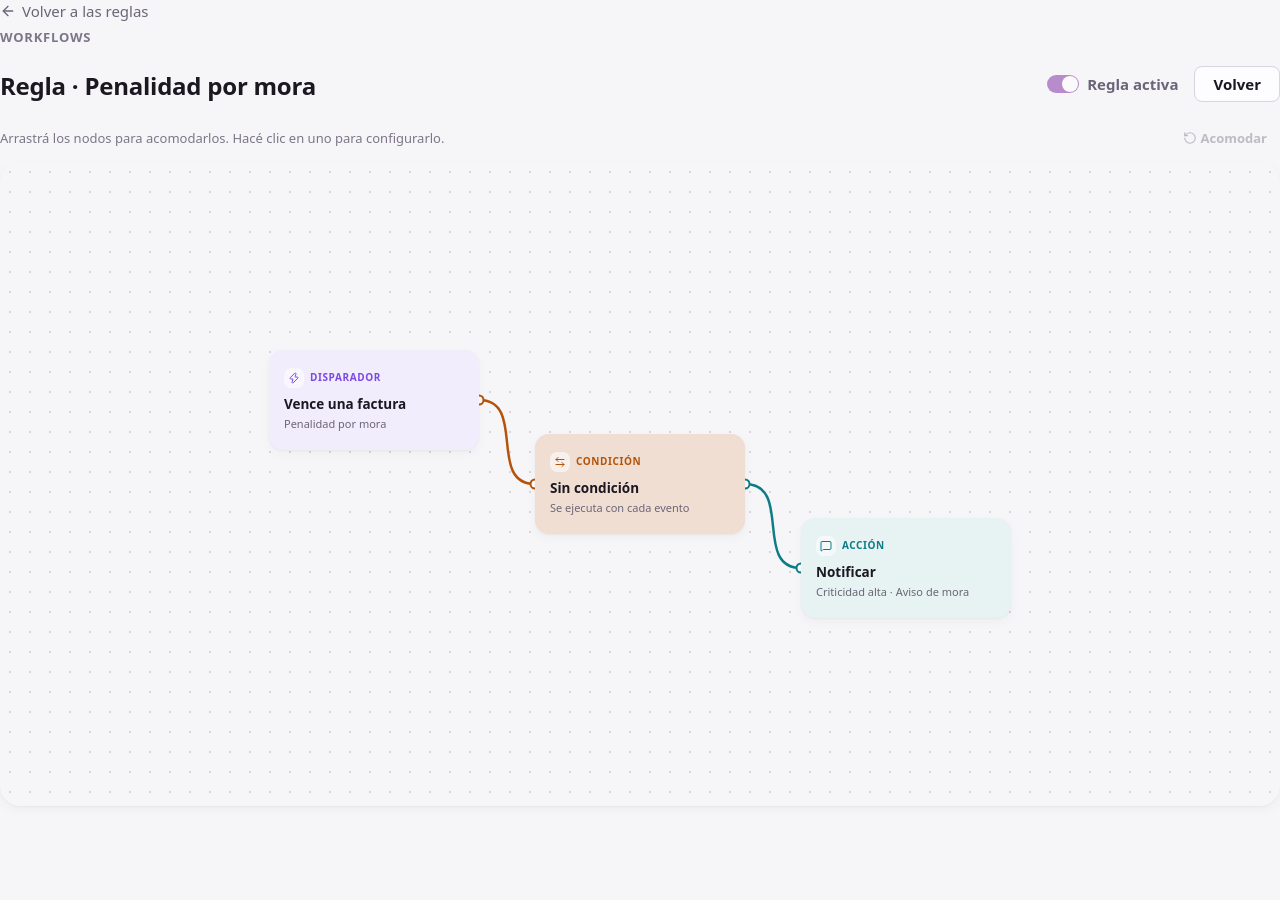
Test: ReglaWorkflowEditorPage › plantilla y destinatarios › deshabilita los destinatarios sin workflows.actualizar
Click the button "Acción Notificar Criticidad alta · Aviso de mora": [906, 568] box [801,518,1011,618]
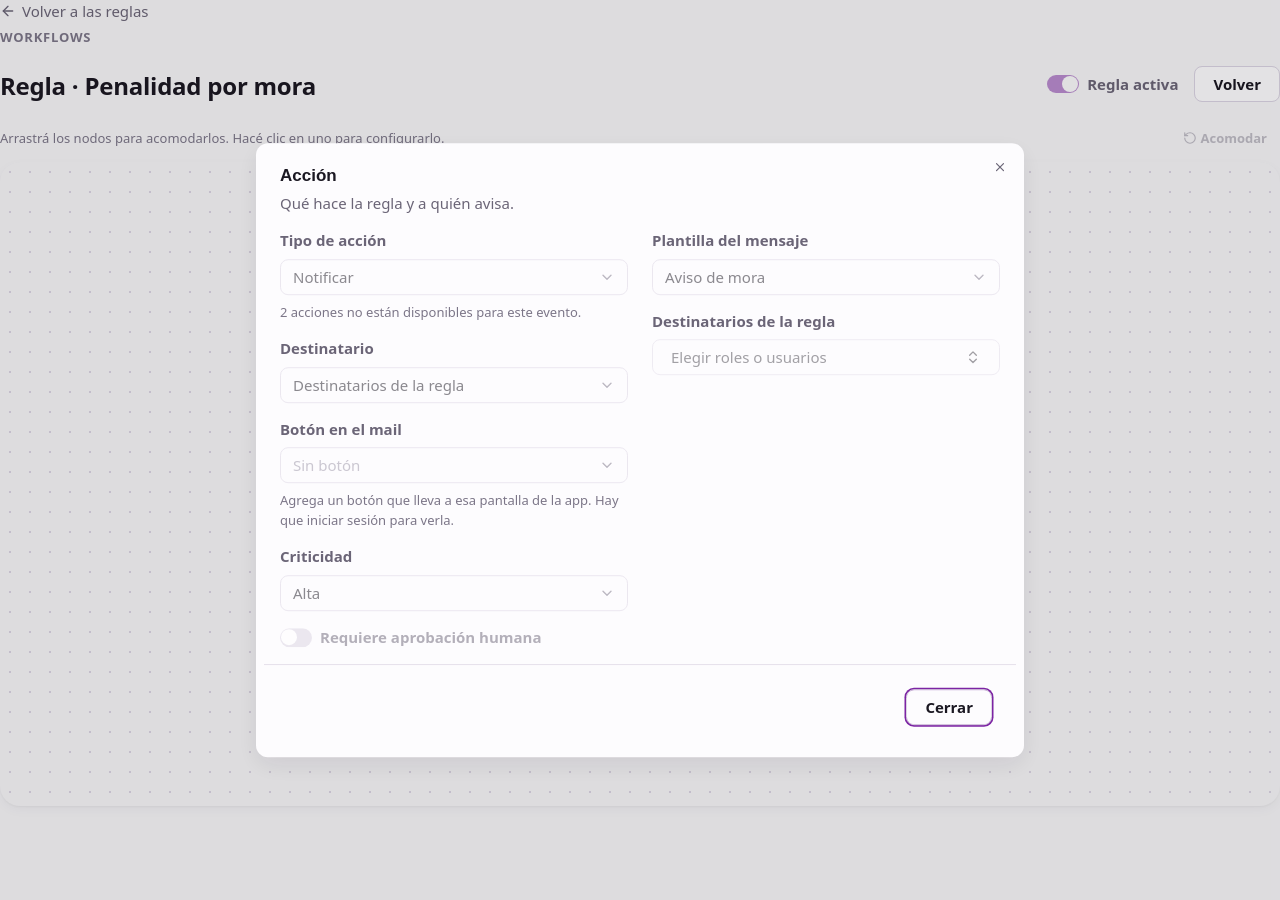
Check: the dropdown named "Destinatarios de la regla" is disabled, box [652,339,1000,375]
